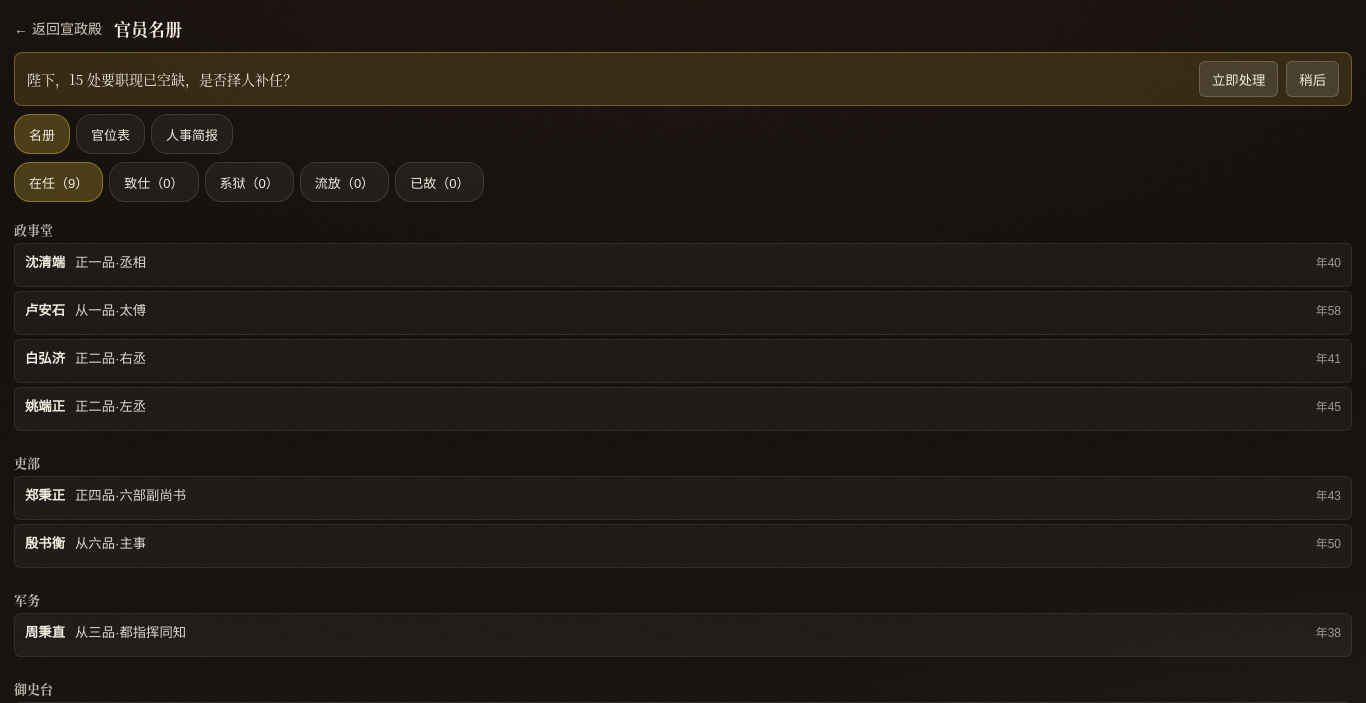
OfficialsScreen — vacancy reminder + 官位表 › shows a high-vacancy reminder and can snooze it
Expected: the text "陛下，15 处要职现已空缺，是否择人补任？" is shown, [27,69,297,89]
Step 1. Click the button "稍后" → (1313,79), box [1286,61,1339,97]
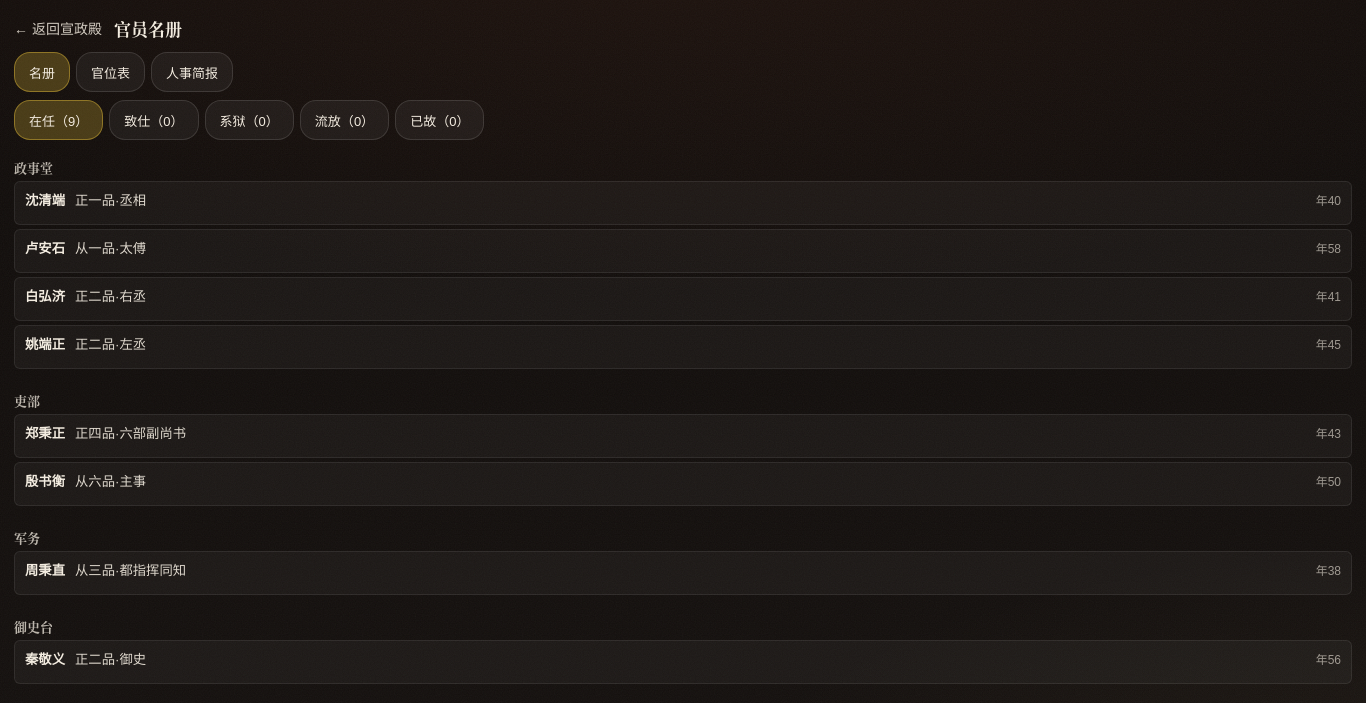
Expected: the text "处要职现已空缺" is gone
